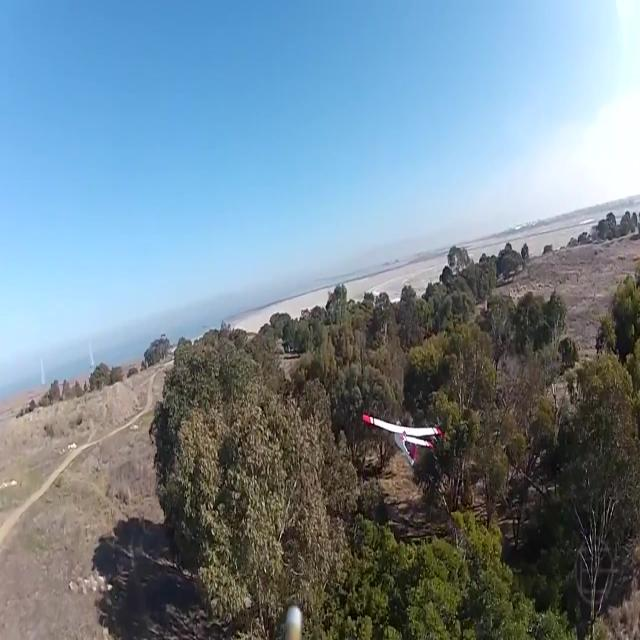iha: (394, 413, 412, 467)
